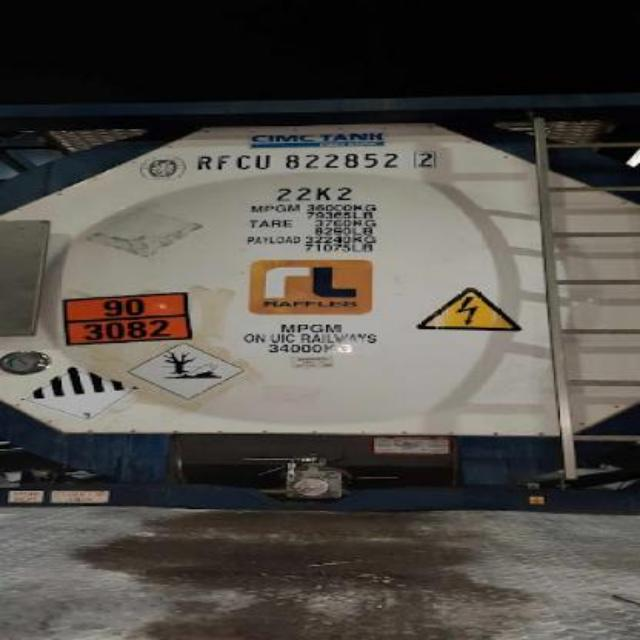2: (324, 153, 344, 169), (414, 150, 434, 166), (304, 154, 322, 170), (382, 152, 400, 168)
5: (362, 154, 380, 166)
8: (344, 154, 362, 168), (285, 156, 301, 168)
C: (232, 156, 252, 168)
F: (214, 156, 230, 170)
R: (196, 157, 216, 170)
U: (252, 156, 274, 168)
